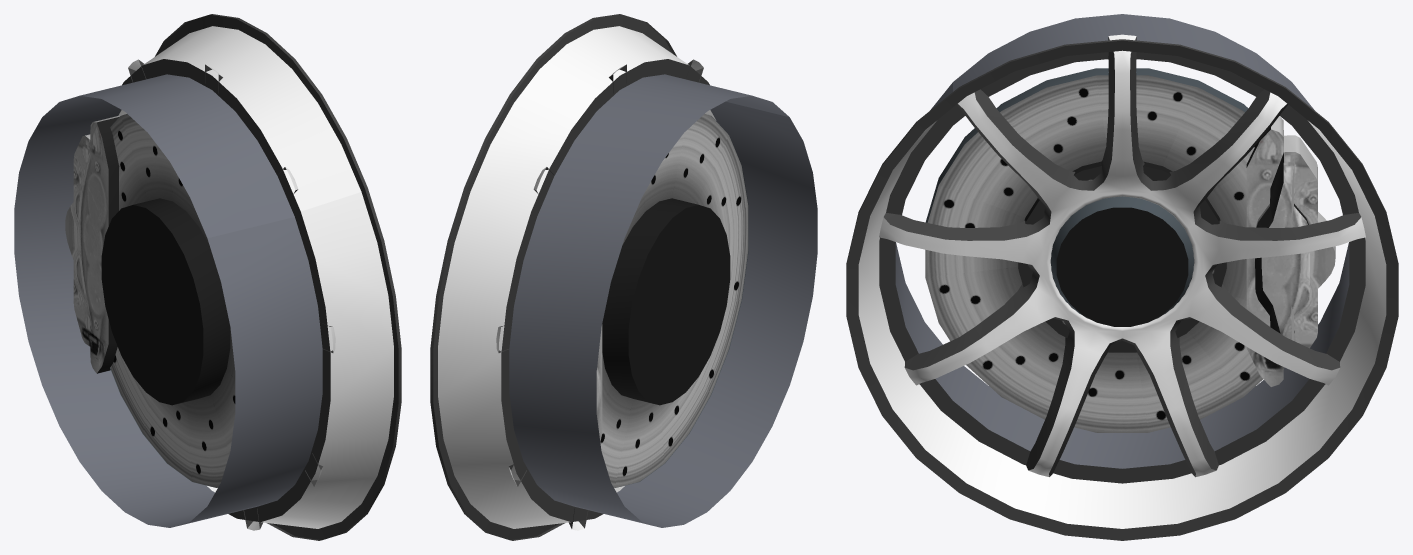
The picture shows the model from 3 angles, left to right: view 1: azimuth 30°, elevation 25°; view 2: azimuth 150°, elevation 25°; view 3: azimuth 270°, elevation 25°; orthographic projection. The views are drawn at different scales.
Parts seen in each view (by area): view 1: 043, BrakeDisc, Caliper; view 2: 043, BrakeDisc, Caliper; view 3: 043, BrakeDisc, Caliper.
Boxes of the visible parts, left/top/right/bottom form: 043: left=14, top=14, right=401, bottom=540; BrakeDisc: left=101, top=114, right=235, bottom=487; Caliper: left=65, top=114, right=125, bottom=373; 043: left=430, top=14, right=817, bottom=540; BrakeDisc: left=600, top=114, right=748, bottom=487; Caliper: left=596, top=324, right=602, bottom=441; 043: left=846, top=14, right=1398, bottom=540; BrakeDisc: left=925, top=68, right=1262, bottom=432; Caliper: left=1246, top=116, right=1335, bottom=386.
Size of the model in its own units: 0.1636 by 0.5353 by 0.5353.
